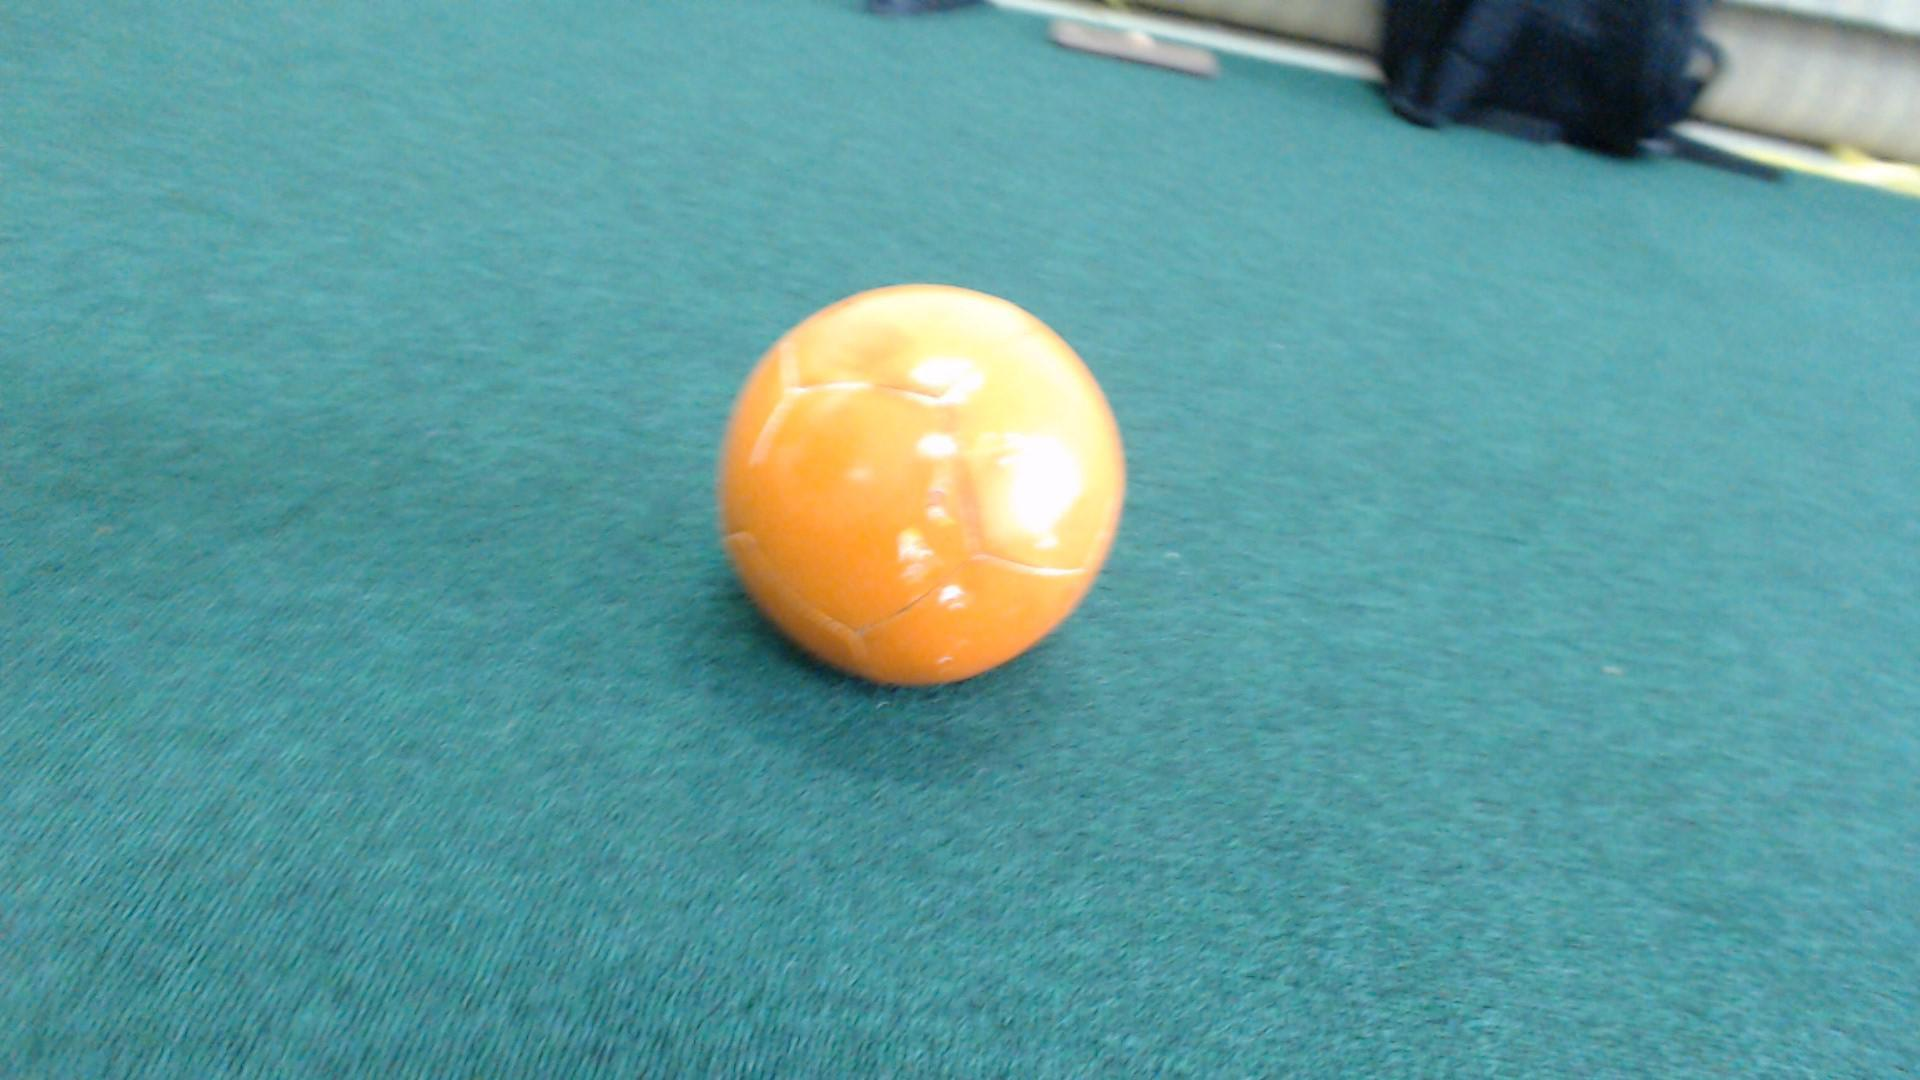bola: (690, 280, 1131, 705)
